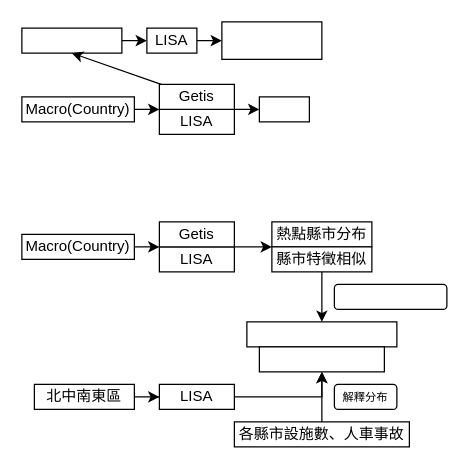
The diagram is 469 pixels wide and 469 high, and some of its shapes have lost their labels. Each missing label, with the box of its shape:
EDA: (258, 96, 309, 122)
LISA map + Facilities: (221, 21, 322, 59)
Micro(County): (21, 27, 122, 53)
各縣市GI+設施數地圖: (246, 321, 397, 347)
各縣市人車事故比: (258, 346, 384, 372)
篩選縣市(北中南東): (333, 283, 447, 309)
